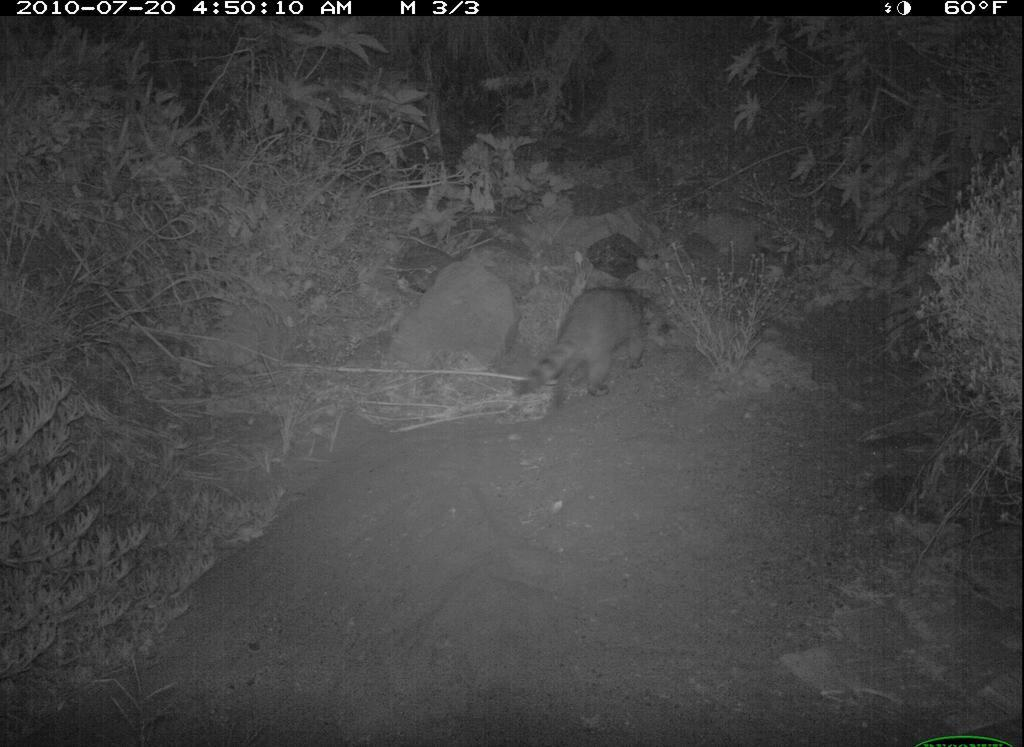raccoon: (511, 269, 662, 415)
